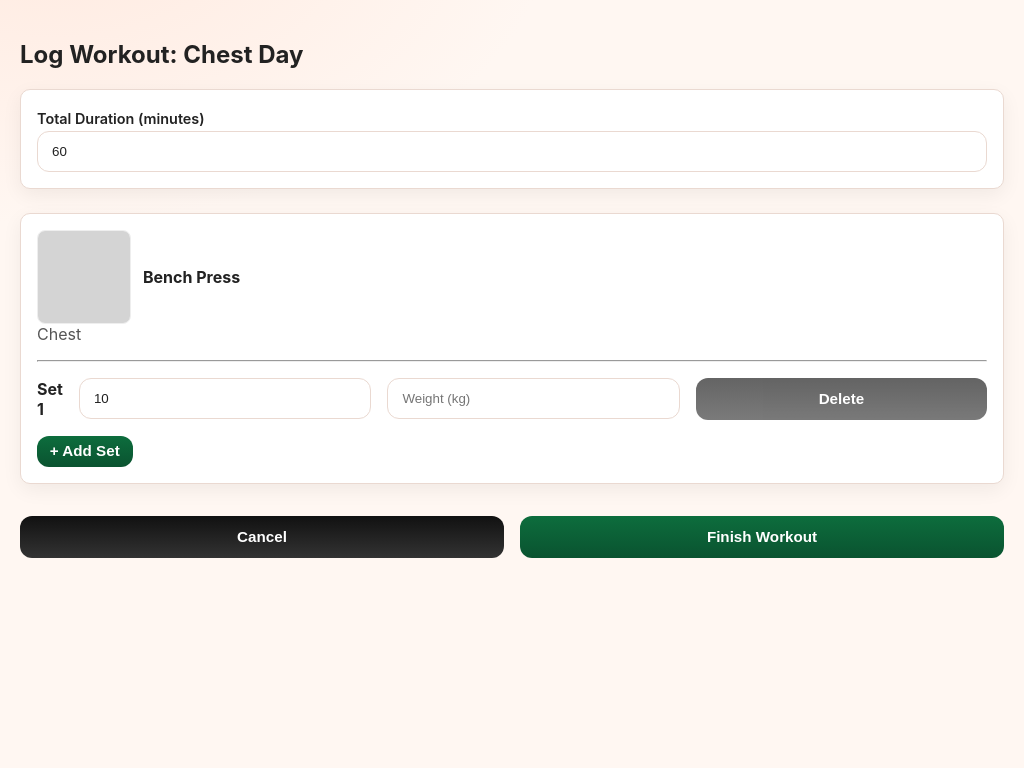
LogWorkoutPage › allows adding and removing sets
Expected: the text "Set 1" is shown, x1=37 y1=379 x2=63 y2=419
Click the button "+ Add Set" at [85, 452], box x1=37 y1=436 x2=132 y2=467
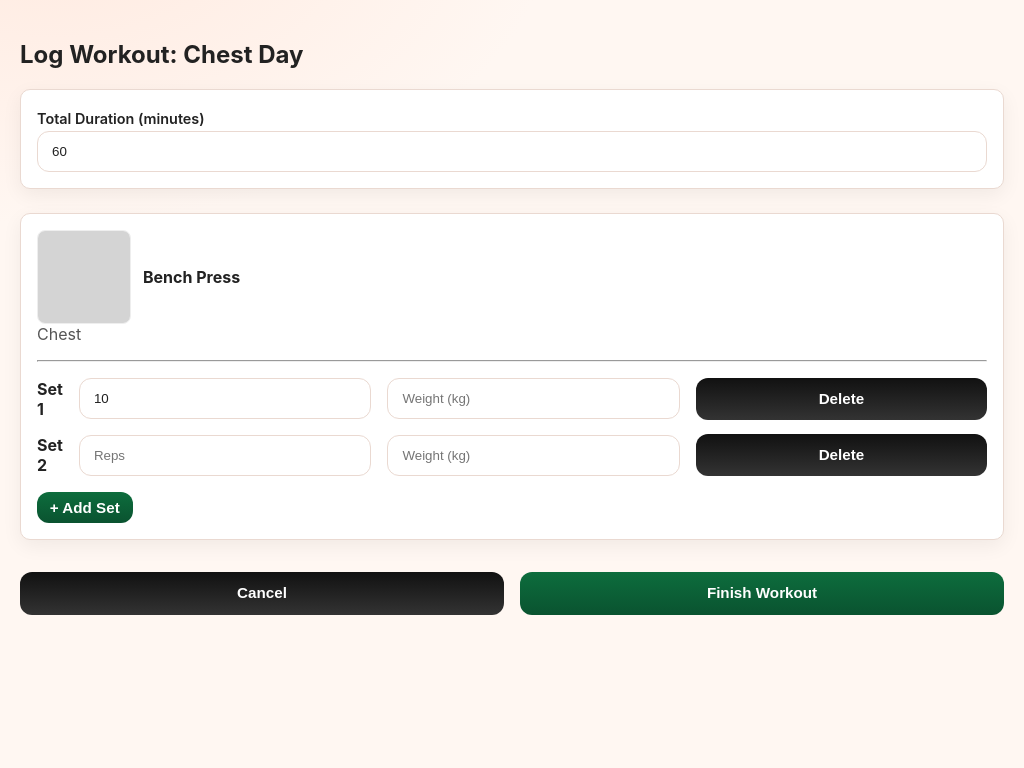
Expected: the text "Set 2" is shown, x1=37 y1=435 x2=63 y2=475
Click the 2nd button "Delete" at [841, 455], box x1=696 y1=434 x2=987 y2=476
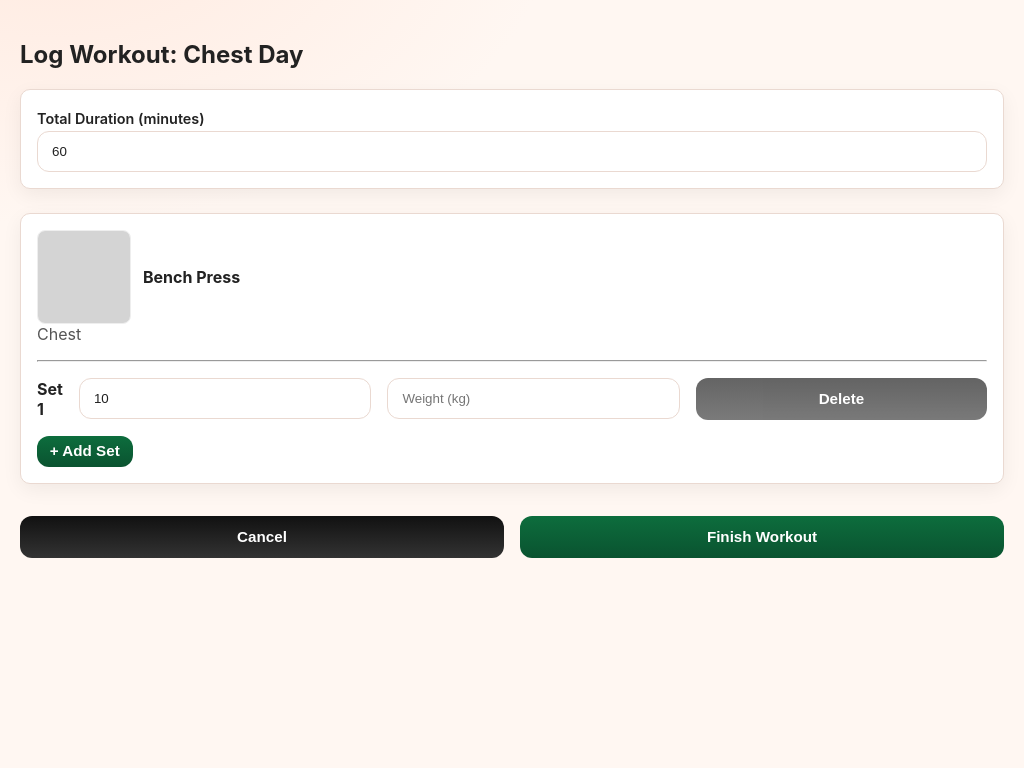
Expected: the text "Set 2" is gone
